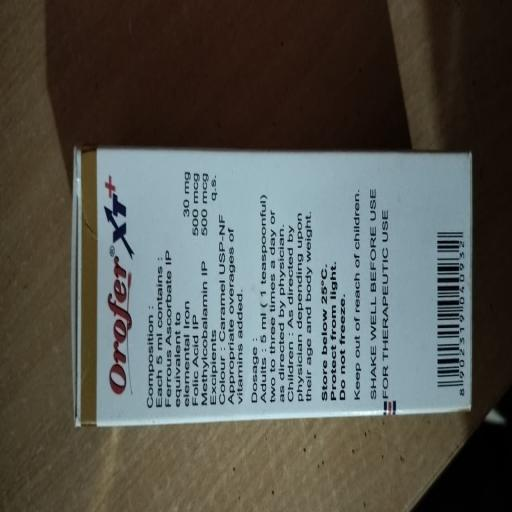orofer xt plus: (57, 83, 492, 453)
